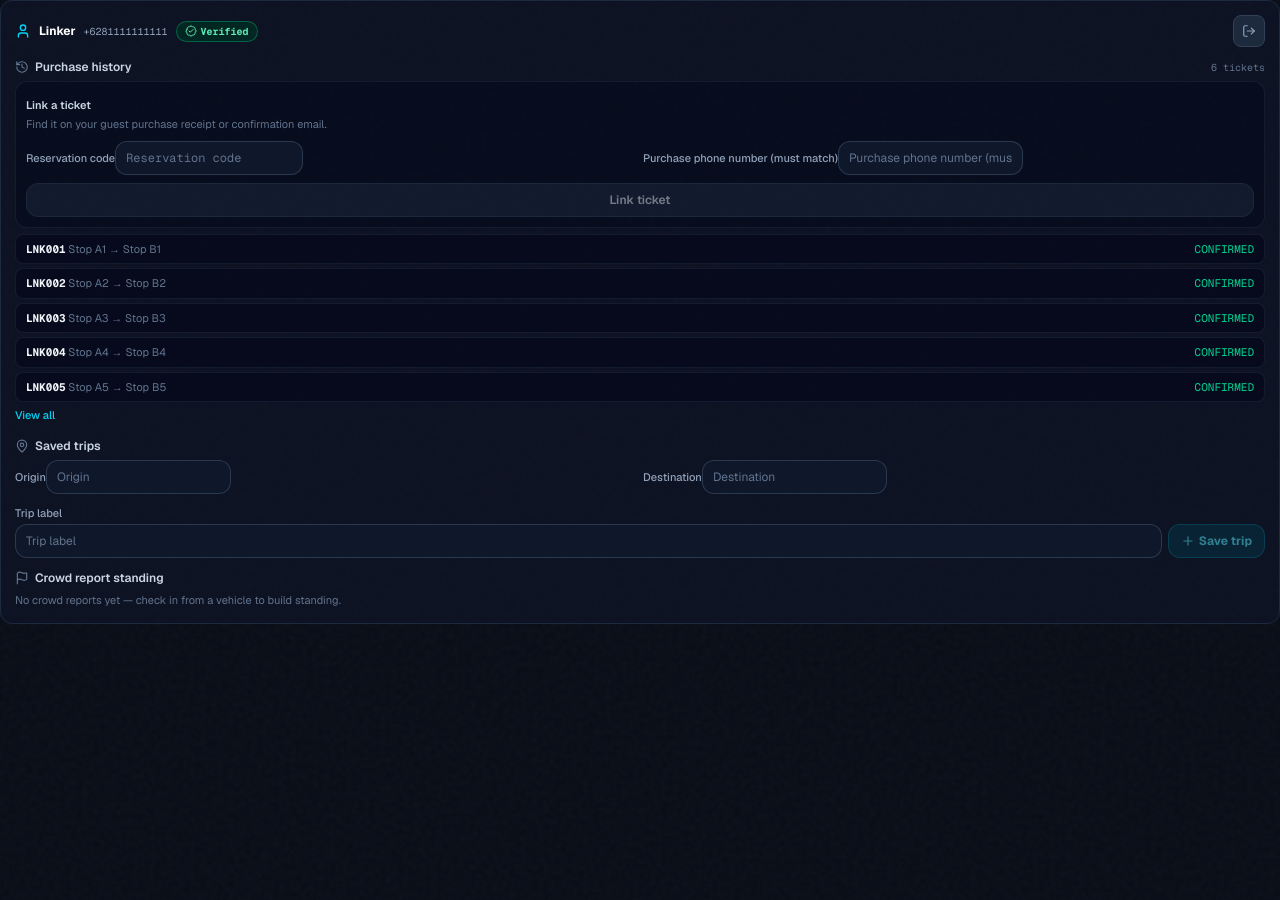
Test: link a ticket › shows enriched rows with a count and view-all
The width and height of the screenshot is (1280, 900).
Expected: the text "6 tickets" is shown, [1211,60,1265,74]
Expected: the text "Stop A1 → Stop B1" is shown, [66,242,161,256]
Click the button "View all" at (35, 415), box [15,407,55,424]
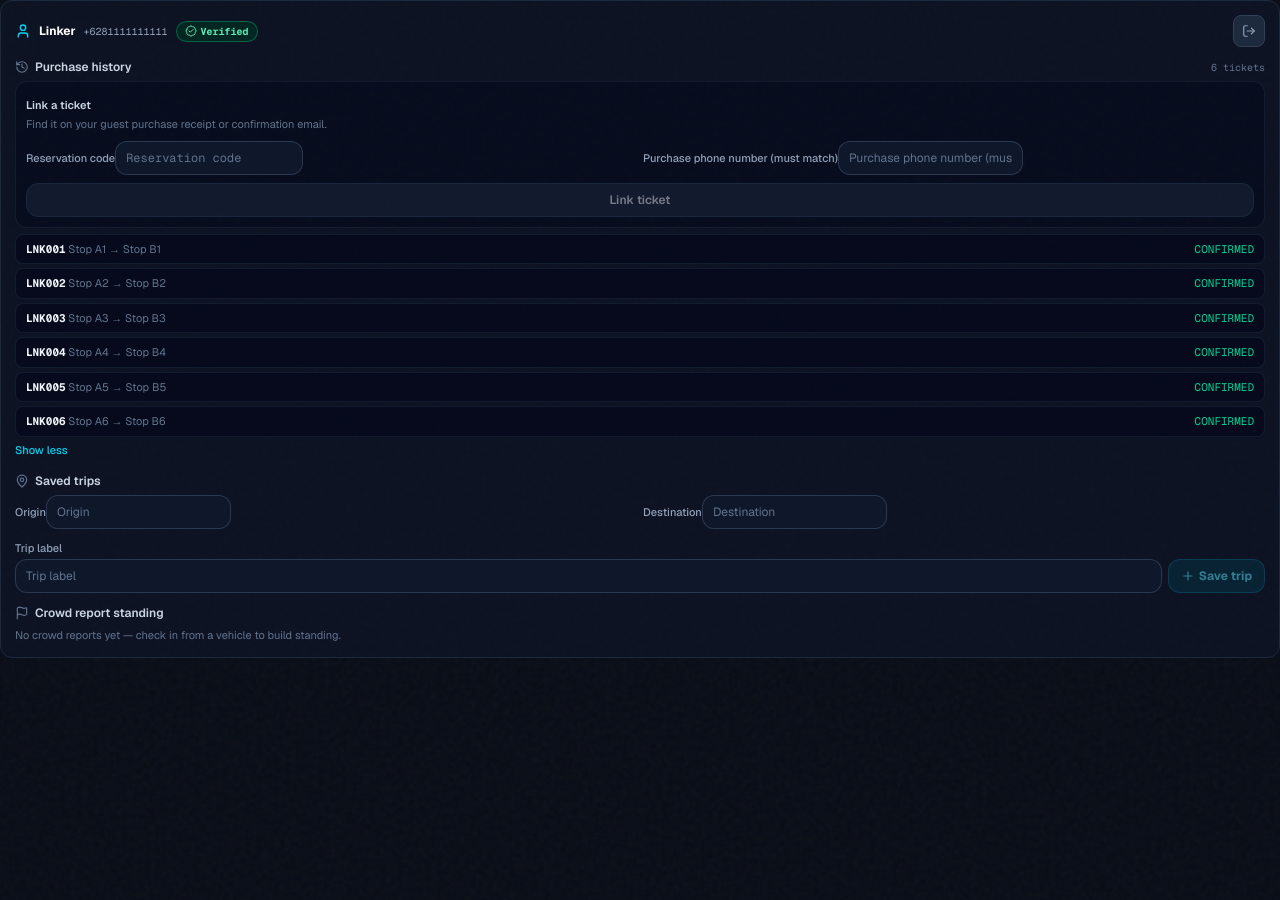
Expected: the text "Stop A6 → Stop B6" is shown, [66,414,166,428]
